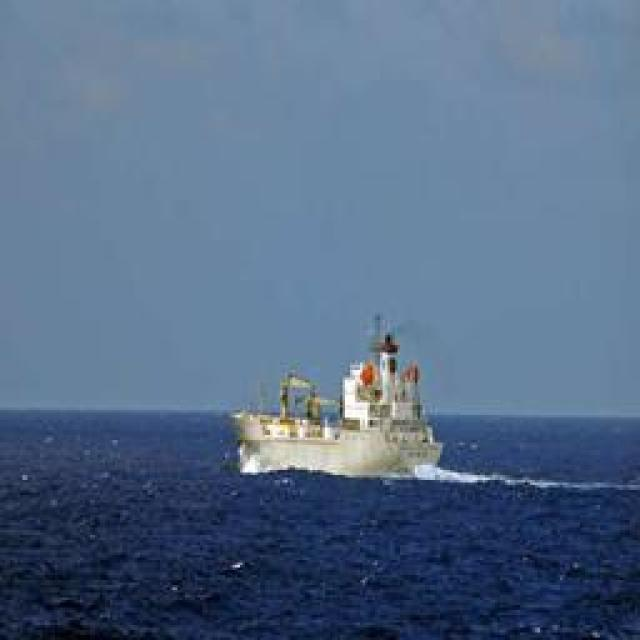CIV_Ship: (236, 308, 439, 482)
